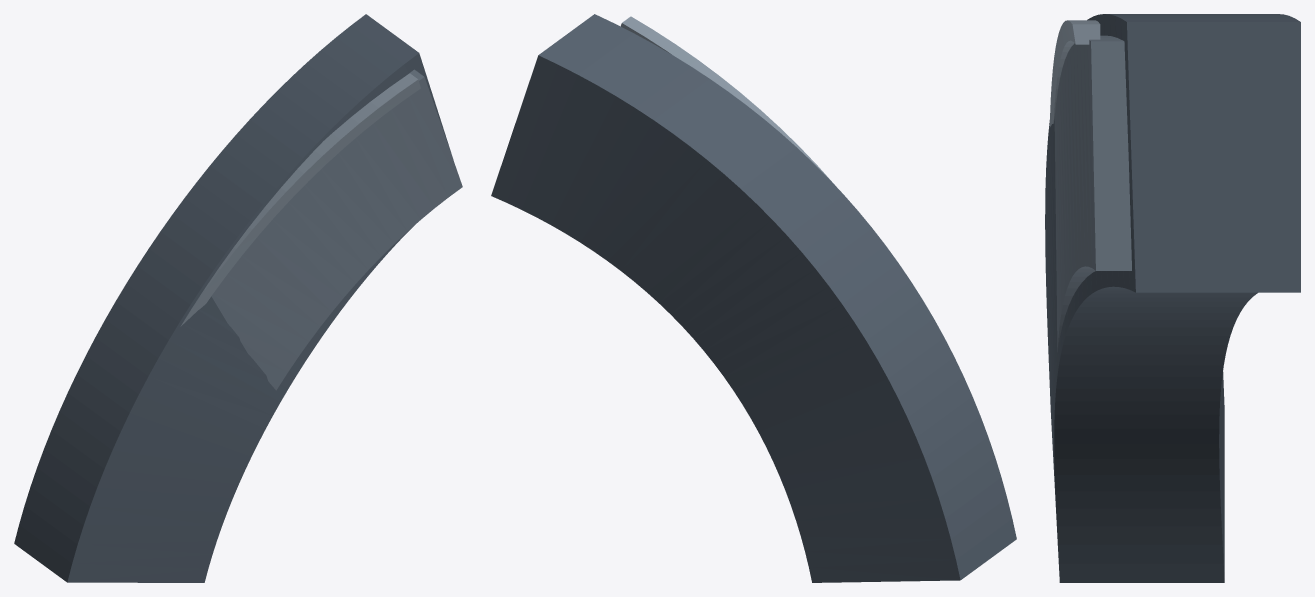
File: ev_core_r10dp_outer_nw.glb
3 renders of one model, left to right at view 1: azimuth 30°, elevation 25°; view 2: azimuth 150°, elevation 25°; view 3: azimuth 270°, elevation 25°, orthographic. The views are drawn at different scales.
Visible parts, largest first — view 1: outer_nw_body, outer_nw_inset, outer_nw_edge; view 2: outer_nw_body, outer_nw_edge; view 3: outer_nw_body, outer_nw_inset, outer_nw_edge.
Boxes of the visible parts, x1=… form: outer_nw_body: x1=14, y1=14, x2=452, y2=582; outer_nw_inset: x1=211, y1=69, x2=462, y2=390; outer_nw_edge: x1=180, y1=73, x2=420, y2=326; outer_nw_body: x1=491, y1=14, x2=1016, y2=582; outer_nw_edge: x1=620, y1=16, x2=834, y2=184; outer_nw_body: x1=1045, y1=14, x2=1300, y2=582; outer_nw_inset: x1=1054, y1=35, x2=1131, y2=351; outer_nw_edge: x1=1049, y1=20, x2=1100, y2=127.
Bounding box in the file's own units: 125 × 130 × 40.32.
